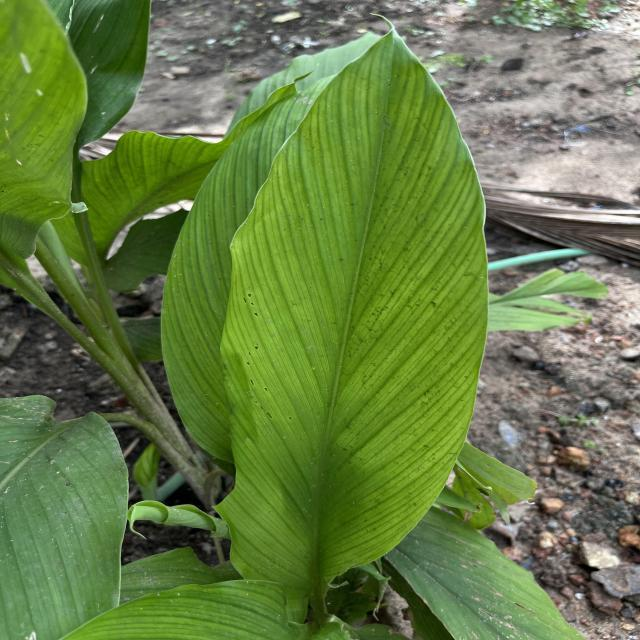Curcuma longa: (202, 5, 497, 617)
